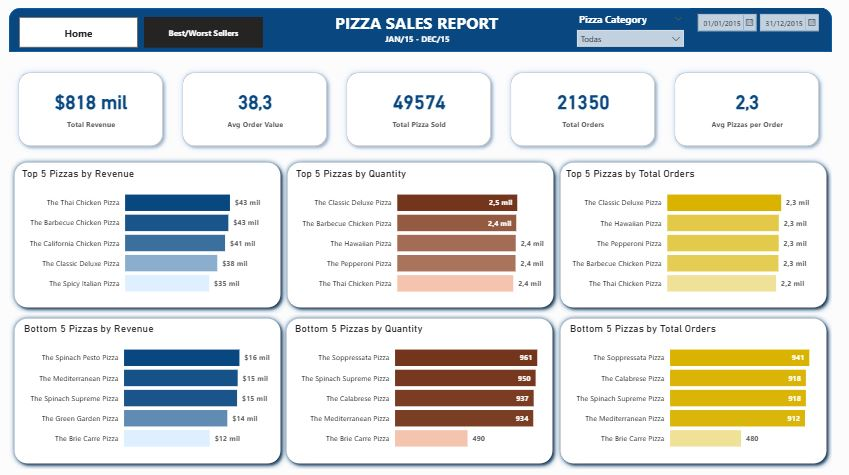

What the dashboard file says about the page in this screenshot:
{"tool":"powerbi","page":{"name":"Best/Worst Sellers","canvas":[1500,820],"ordinal":1},"visuals":[{"type":"cardVisual","fields":{"Data":["pizza_sales pizza_sales.Total Revenue","pizza_sales pizza_sales.Avg Order Value","pizza_sales pizza_sales.Total Pizza Sold","pizza_sales pizza_sales.Total Orders","pizza_sales pizza_sales.Avg Pizzas per Order"]},"box":[73.3,128.3,1350,155],"z":0},{"type":"shape","box":[75.4,39.4,1349.7,72],"z":1000},{"type":"textbox","box":[605,40,288.3,51.7],"z":2000},{"type":"textbox","box":[686.7,75,125,33.3],"z":3000},{"type":"slicer","fields":{"Values":["pizza_sales pizza_sales.pizza_category"]},"box":[997.1,42.6,195.2,60.7],"z":4000},{"type":"slicer","fields":{"Values":["pizza_sales pizza_sales.order_date"]},"box":[1191.7,40,220,68.3],"z":5000},{"type":"shape","box":[970.9,283.7,454.3,255.8],"z":6000},{"type":"shape","box":[523.2,283.7,454.3,255.8],"z":7000},{"type":"shape","box":[75.4,283.7,454.3,255.8],"z":8000},{"type":"shape","box":[75.4,539.6,454.3,255.8],"z":9000},{"type":"shape","box":[521.5,539.6,454.3,255.8],"z":10000},{"type":"shape","box":[970.9,539.6,454.3,255.8],"z":11000},{"type":"barChart","title":"Top 5 Pizzas by Revenue","fields":{"Category":["pizza_sales pizza_sales.pizza_name"],"Y":["pizza_sales pizza_sales.Total Revenue"]},"box":[91.8,300.1,416.6,223],"z":12000},{"type":"barChart","title":"Bottom 5 Pizzas by Revenue","fields":{"Category":["pizza_sales pizza_sales.pizza_name"],"Y":["pizza_sales pizza_sales.Total Revenue"]},"box":[95,555,416.7,223.3],"z":13000},{"type":"barChart","title":"Top 5 Pizzas by Quantity","fields":{"Category":["pizza_sales pizza_sales.pizza_name"],"Y":["pizza_sales pizza_sales.Total Pizza Sold"]},"box":[541.7,300,416.7,223.3],"z":14000},{"type":"barChart","title":"Bottom 5 Pizzas by Quantity","fields":{"Category":["pizza_sales pizza_sales.pizza_name"],"Y":["pizza_sales pizza_sales.Total Pizza Sold"]},"box":[540,555,416.7,223.3],"z":15000},{"type":"barChart","title":"Top 5 Pizzas by Total Orders","fields":{"Category":["pizza_sales pizza_sales.pizza_name"],"Y":["pizza_sales pizza_sales.Total Orders"]},"box":[983.3,300,416.7,223.3],"z":15001},{"type":"barChart","title":"Bottom 5 Pizzas by Total Orders","fields":{"Category":["pizza_sales pizza_sales.pizza_name"],"Y":["pizza_sales pizza_sales.Total Orders"]},"box":[990,555,416.7,223.3],"z":15002},{"type":"pageNavigator","box":[91.7,53.3,400,50],"z":15003}]}

Visuals, with their boxes in screenshot pixels (x1, y1, x2, y2), scaled from the page's 1500x820 canvas onto the 849x475 screenshot:
cardVisual - pizza_sales pizza_sales.Total Revenue x pizza_sales pizza_sales.Avg Order Value: 41/74/806/164
shape: 43/23/807/65
textbox: 342/23/506/53
textbox: 389/43/459/63
slicer - pizza_sales pizza_sales.pizza_category: 564/25/675/60
slicer - pizza_sales pizza_sales.order_date: 675/23/799/63
shape: 550/164/807/313
shape: 296/164/553/313
shape: 43/164/300/313
shape: 43/313/300/461
shape: 295/313/552/461
shape: 550/313/807/461
"Top 5 Pizzas by Revenue" barChart: 52/174/288/303
"Bottom 5 Pizzas by Revenue" barChart: 54/321/290/451
"Top 5 Pizzas by Quantity" barChart: 307/174/542/303
"Bottom 5 Pizzas by Quantity" barChart: 306/321/541/451
"Top 5 Pizzas by Total Orders" barChart: 557/174/792/303
"Bottom 5 Pizzas by Total Orders" barChart: 560/321/796/451
pageNavigator: 52/31/278/60
